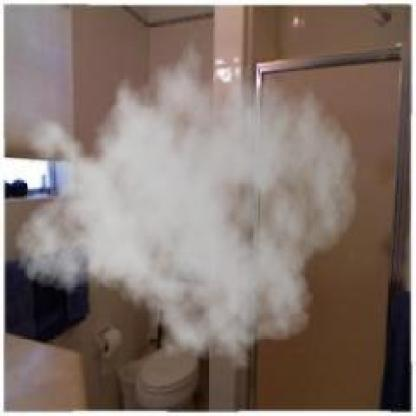Smoke: (12, 23, 359, 379)
